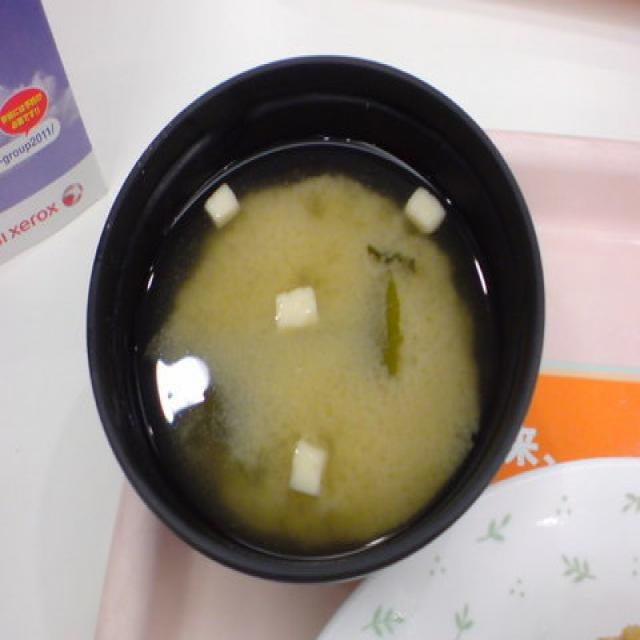汤锅炖物: (101, 80, 572, 576)
